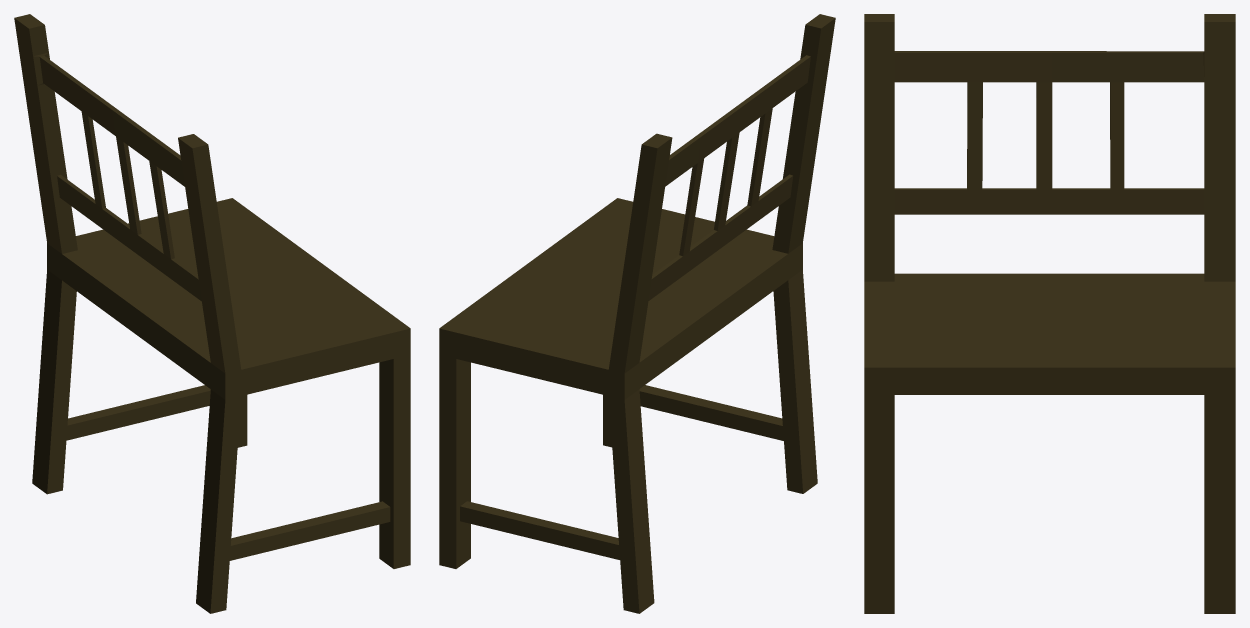
Rendered from chair_library.dae.
3 renders of one model, left to right at view 1: azimuth 30°, elevation 25°; view 2: azimuth 150°, elevation 25°; view 3: azimuth 270°, elevation 25°, orthographic. The views are drawn at different scales.
Parts seen in each view (by area): view 1: IKEA_chair_STEFAN; view 2: IKEA_chair_STEFAN; view 3: IKEA_chair_STEFAN.
Boxes of the visible parts, x1=… form: IKEA_chair_STEFAN: x1=14, y1=14, x2=410, y2=613; IKEA_chair_STEFAN: x1=439, y1=14, x2=835, y2=613; IKEA_chair_STEFAN: x1=864, y1=14, x2=1235, y2=613.
Size of the model in its own units: 0.49 by 0.693 by 1.01.
